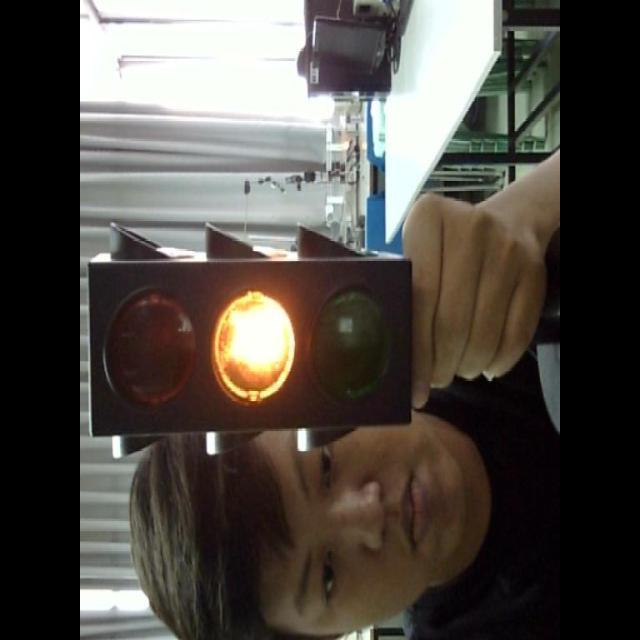yellow_light: (87, 253, 409, 433)
